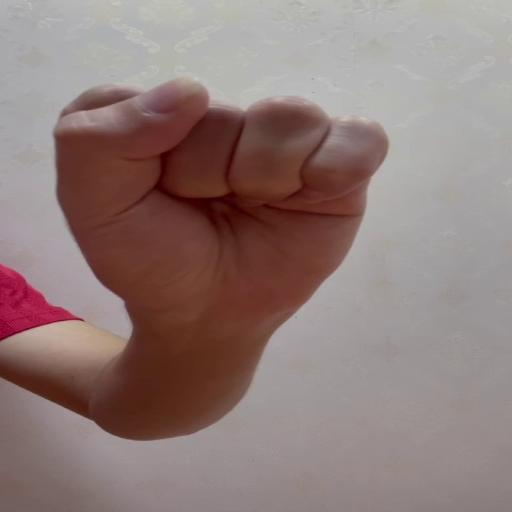fist: (53, 72, 391, 313)
